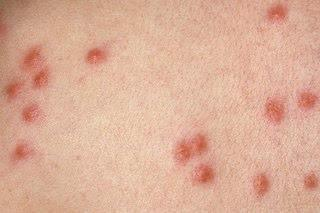Mites: (4, 48, 56, 121), (168, 131, 220, 188), (259, 92, 289, 127), (294, 84, 319, 114), (8, 139, 37, 164), (82, 47, 111, 69), (266, 2, 288, 26)
